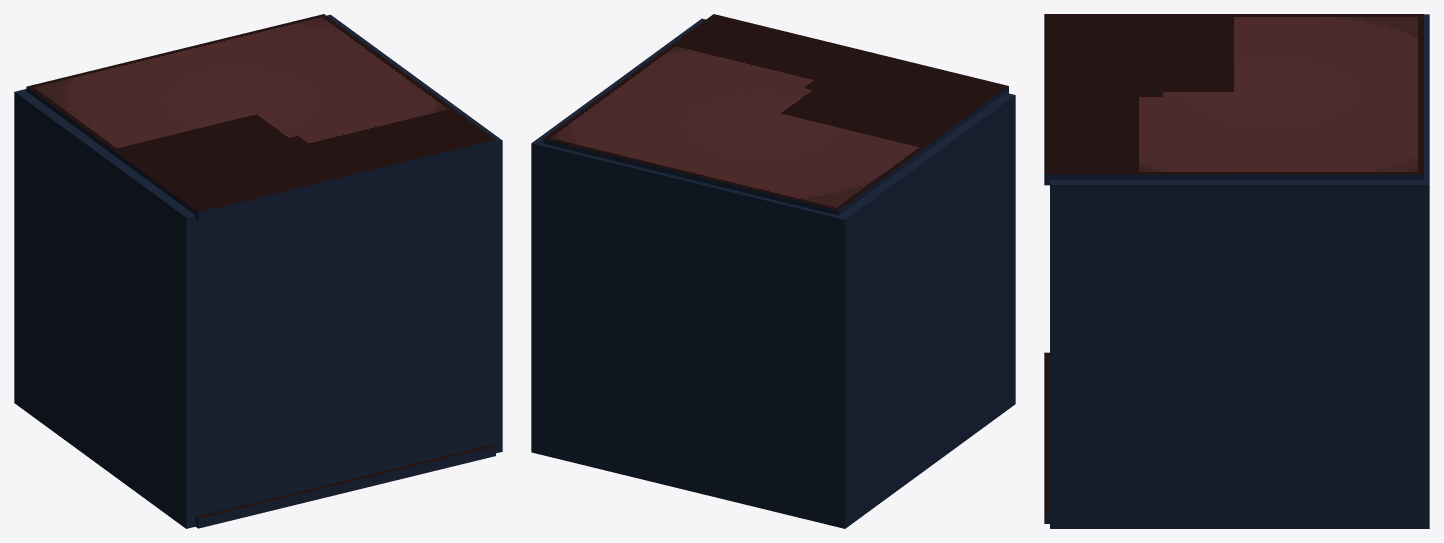
Rendered from MenuV2.glb.
The picture shows the model from 3 angles, left to right: view 1: azimuth 30°, elevation 25°; view 2: azimuth 150°, elevation 25°; view 3: azimuth 270°, elevation 25°; orthographic projection. The views are drawn at different scales.
Parts seen in each view (by area): view 1: cuboid.001, cuboid.002, cuboid.006, cuboid.003, cuboid.004; view 2: cuboid.005, cuboid.002, cuboid.006, cuboid.003; view 3: cuboid.003, cuboid.006, cuboid.004, cuboid.005.
Part boxes in pixels (bbox=[...]): cuboid.001: bbox=[195, 150, 493, 516]; cuboid.002: bbox=[14, 89, 195, 528]; cuboid.006: bbox=[26, 14, 495, 221]; cuboid.003: bbox=[327, 14, 502, 453]; cuboid.004: bbox=[195, 444, 495, 528]; cuboid.005: bbox=[540, 143, 837, 526]; cuboid.002: bbox=[836, 93, 1015, 528]; cuboid.006: bbox=[543, 14, 1008, 215]; cuboid.003: bbox=[531, 18, 705, 454]; cuboid.003: bbox=[1050, 180, 1429, 528]; cuboid.006: bbox=[1044, 14, 1423, 185]; cuboid.004: bbox=[1044, 352, 1049, 523]; cuboid.005: bbox=[1424, 19, 1429, 179].
Bounding box in the file's own units: 4.25 × 4.06 × 4.06.
Materials: 21 (21 with a texture image).
